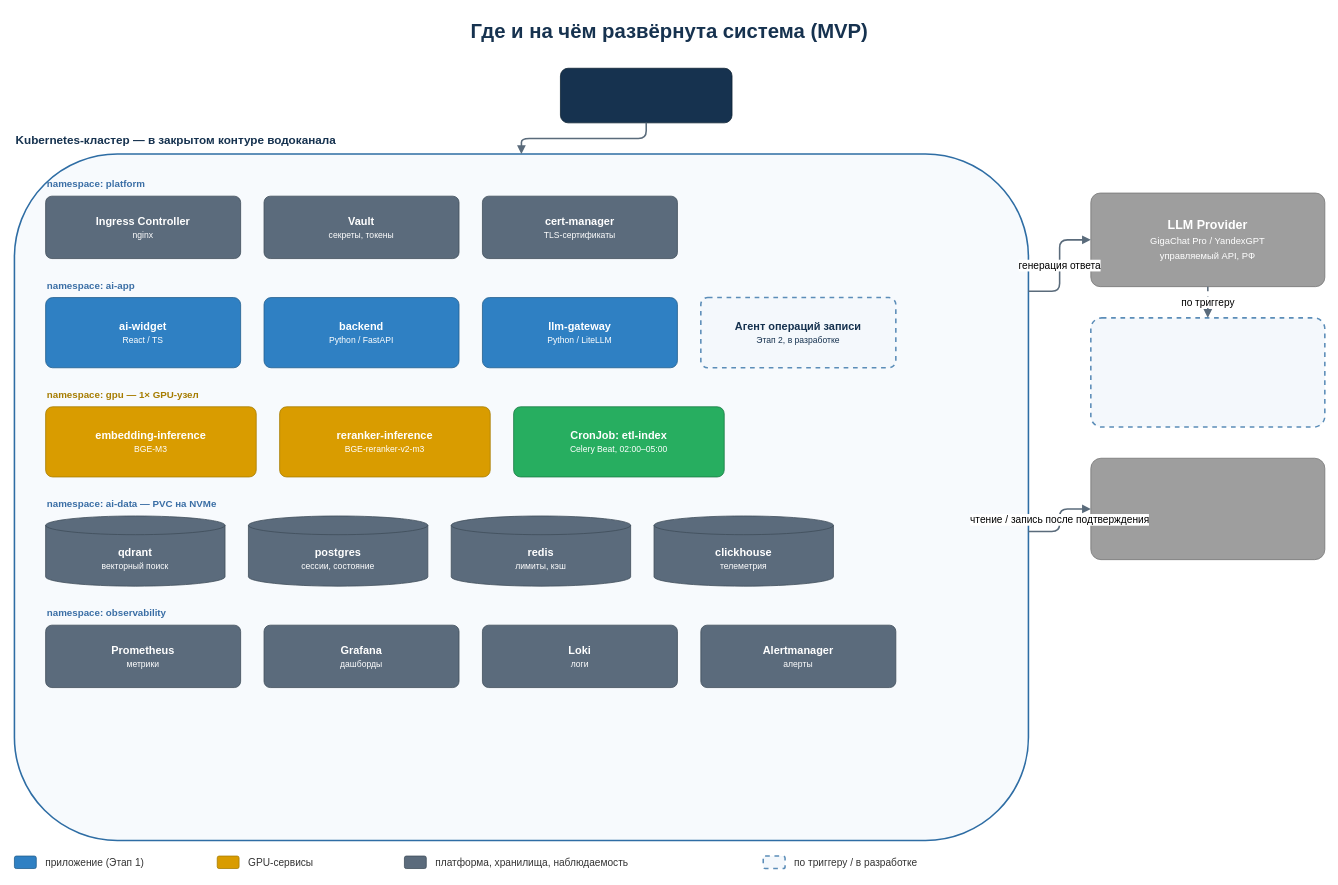
The diagram is 1338 pixels wide and 885 high, and some of its shapes have lost their labels. Here are the shapes that lost their labels. From the top down, the box of each, then its label:
(560, 67, 732, 123): Абонент
(1090, 317, 1325, 427): Своя модель (тираж) Qwen2.5-32B, vLLM, GPU по триггеру: нагрузка / ИБ
(1090, 457, 1325, 560): Системы водоканала Биллинг · Диспетчерская обращения · личный кабинет
